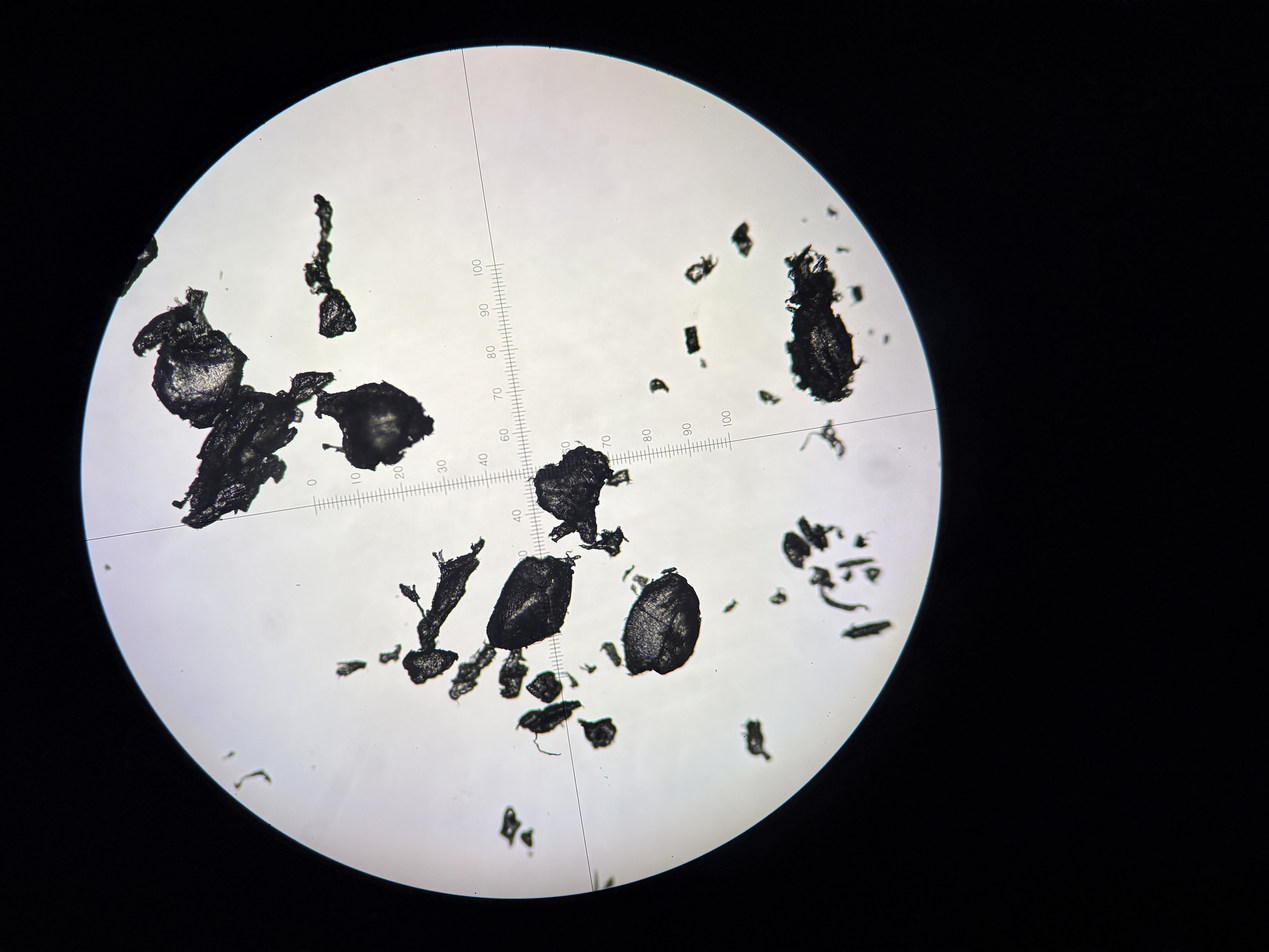microplastic: (171, 390, 298, 517), (150, 285, 250, 430), (783, 243, 865, 405), (308, 377, 437, 472), (485, 549, 582, 652), (619, 566, 703, 678), (526, 444, 610, 546), (180, 452, 289, 530), (302, 193, 358, 339), (416, 536, 486, 652), (515, 700, 585, 757), (130, 304, 195, 359), (448, 638, 498, 702), (118, 234, 159, 298), (276, 370, 337, 413), (401, 648, 460, 686), (798, 418, 846, 461), (797, 515, 845, 553), (497, 648, 530, 699), (578, 525, 630, 557), (818, 583, 870, 612), (577, 717, 618, 750), (740, 720, 772, 762), (525, 670, 564, 704), (682, 254, 720, 287), (782, 530, 812, 570), (839, 620, 892, 640), (398, 582, 425, 619), (729, 221, 755, 259), (500, 806, 522, 848), (807, 565, 837, 591), (234, 770, 272, 790), (547, 520, 577, 544), (682, 324, 702, 356), (599, 641, 622, 668), (605, 468, 634, 488), (335, 660, 367, 678), (378, 643, 402, 665), (757, 389, 782, 407), (845, 285, 864, 307), (767, 587, 789, 606), (837, 557, 874, 568), (647, 378, 670, 394), (631, 573, 649, 591), (563, 672, 580, 689), (864, 567, 882, 583), (722, 598, 740, 614), (621, 564, 636, 583), (520, 829, 534, 848), (854, 534, 870, 548), (294, 405, 305, 424), (579, 663, 597, 674), (825, 207, 839, 221), (592, 869, 600, 892), (629, 583, 641, 597), (840, 570, 853, 582), (697, 357, 708, 371), (604, 876, 615, 890), (835, 246, 851, 255), (222, 751, 236, 760), (882, 334, 890, 345), (574, 439, 584, 446), (104, 564, 112, 572)
